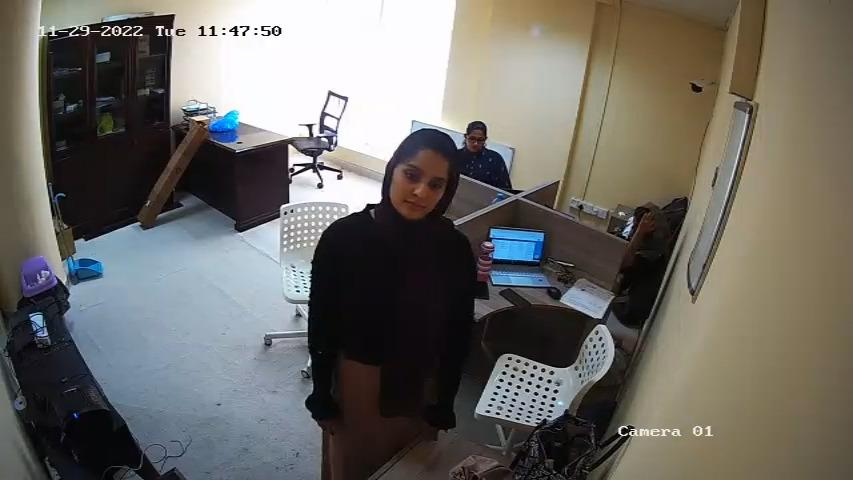no_apron: (333, 223, 456, 379)
